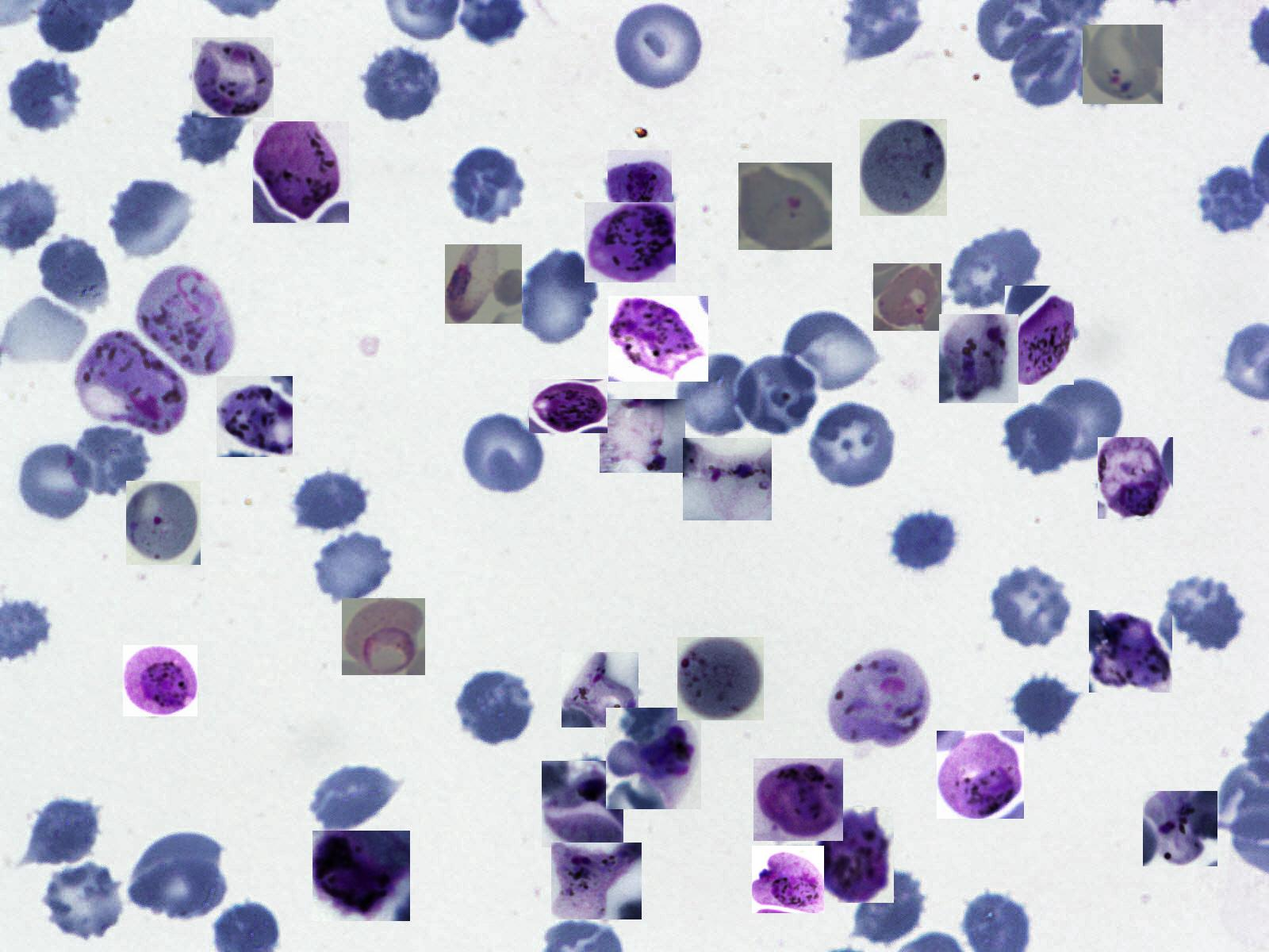Infected: (133, 259, 237, 378), (79, 324, 190, 433), (826, 646, 926, 747), (253, 121, 349, 223), (606, 708, 701, 809), (313, 831, 410, 921), (608, 296, 708, 382), (860, 119, 947, 216), (738, 163, 832, 250), (813, 807, 894, 903), (937, 731, 1024, 819), (753, 758, 843, 841), (683, 438, 772, 520), (585, 202, 676, 282), (677, 637, 764, 720), (939, 314, 1018, 403), (542, 761, 623, 847), (551, 843, 642, 919), (1089, 610, 1172, 693), (1005, 286, 1074, 385), (192, 37, 274, 117), (342, 598, 425, 675), (1083, 25, 1163, 104), (126, 481, 201, 565), (600, 399, 685, 473), (445, 244, 522, 324), (217, 376, 293, 457), (1098, 437, 1173, 519), (562, 652, 638, 727), (1143, 791, 1217, 866), (124, 645, 198, 716), (752, 846, 824, 913), (608, 150, 672, 223), (873, 263, 941, 331), (529, 379, 608, 433)
Uninfected: (127, 831, 229, 922), (780, 309, 886, 393), (519, 246, 604, 350), (945, 221, 1045, 309), (611, 1, 705, 94), (806, 399, 899, 489), (1032, 374, 1126, 463), (105, 175, 197, 263), (730, 350, 822, 437), (675, 348, 762, 440), (36, 858, 128, 942), (988, 563, 1075, 650), (460, 413, 548, 495), (1007, 25, 1087, 113), (65, 421, 152, 501), (1165, 572, 1248, 654), (448, 145, 528, 226), (3, 51, 79, 135), (455, 668, 535, 747), (310, 762, 402, 830), (362, 43, 442, 121), (852, 865, 928, 947), (314, 526, 393, 603), (39, 240, 120, 312), (23, 795, 102, 868), (290, 466, 370, 538), (1002, 401, 1074, 475), (1198, 159, 1267, 236), (891, 507, 963, 578), (170, 100, 243, 170), (21, 441, 89, 516), (1002, 669, 1078, 735)
